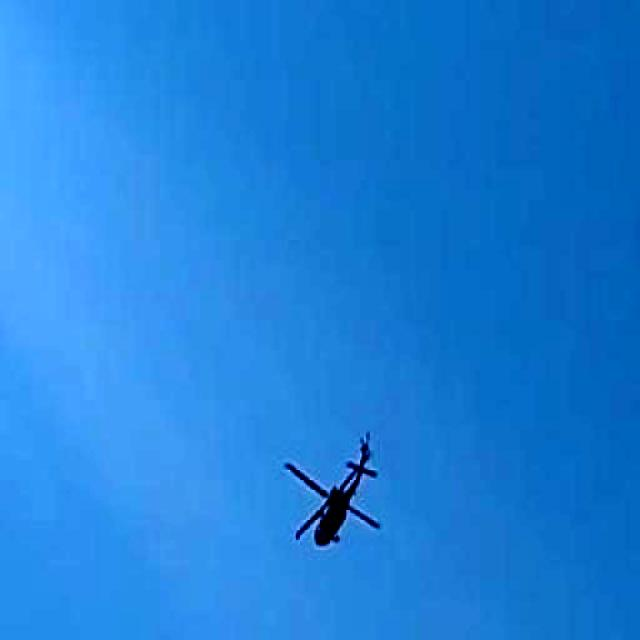drone: (266, 405, 414, 568)
